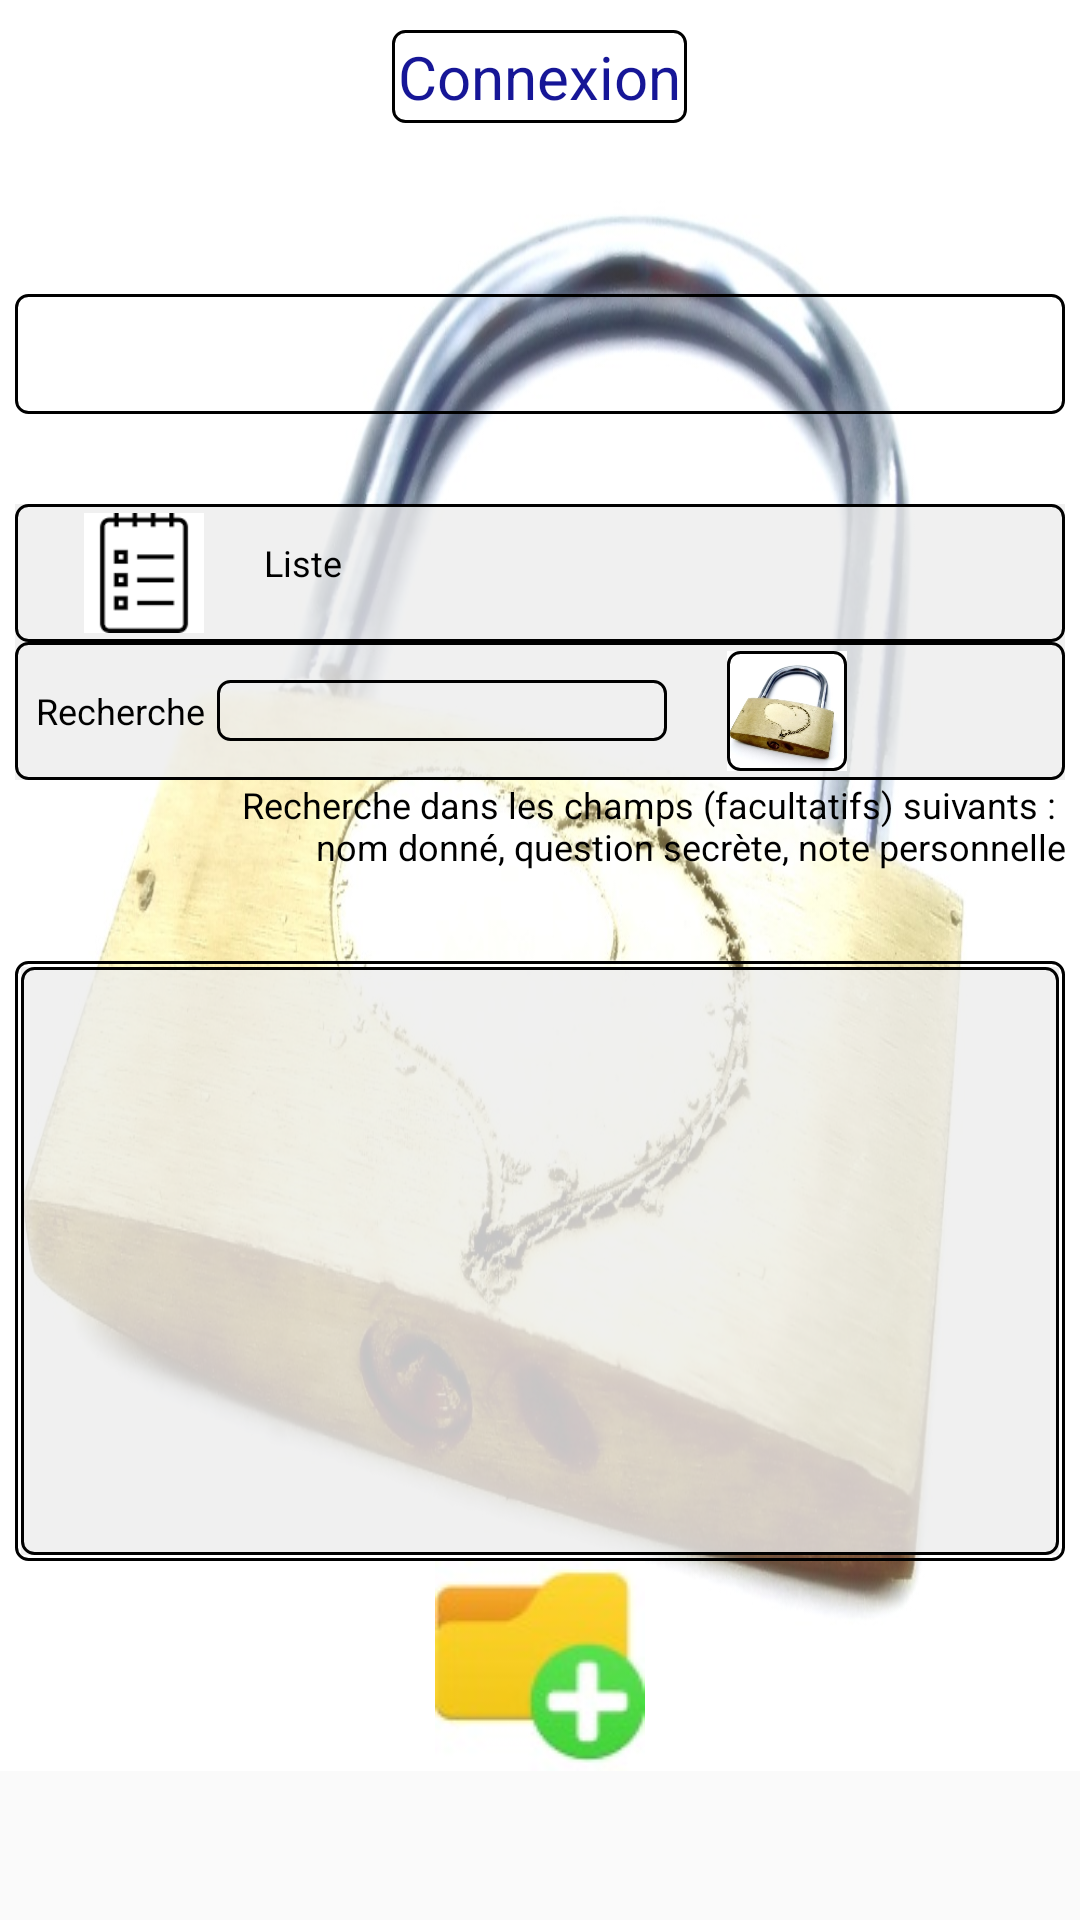

Named icons in this screenshot (1080*1920) and their centers, [x,y]:
ajout: [540,1666]
bouton cadenas: [787,711]
